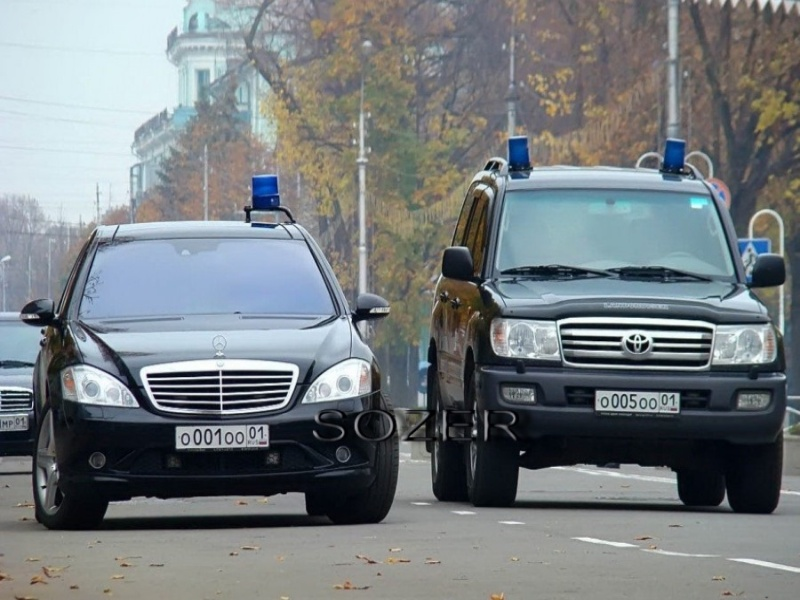car: (426, 159, 786, 511), (20, 222, 398, 525), (1, 312, 52, 451)
plate: (175, 425, 269, 451), (595, 390, 681, 417), (1, 415, 26, 432)
